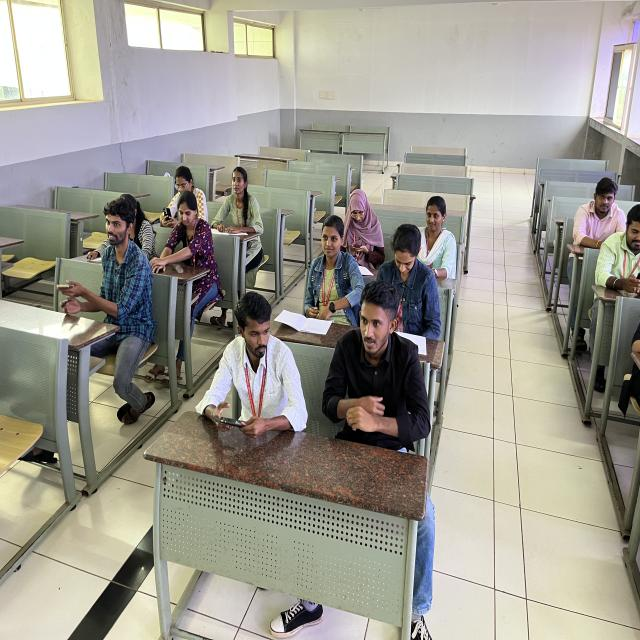Using Phone: (53, 193, 154, 384), (196, 284, 305, 460), (373, 220, 442, 341), (339, 186, 387, 274), (158, 166, 208, 232)
Writing: (283, 208, 353, 336)
